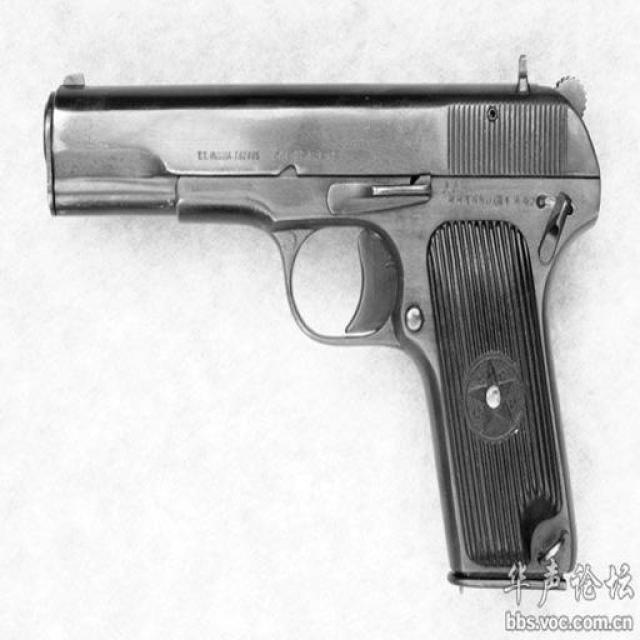pistol: (40, 47, 599, 591)
